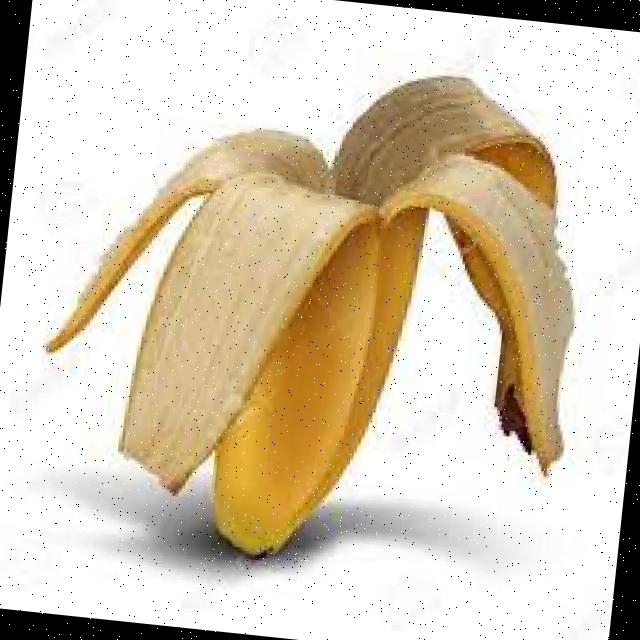banana-peel: (23, 32, 602, 588)
